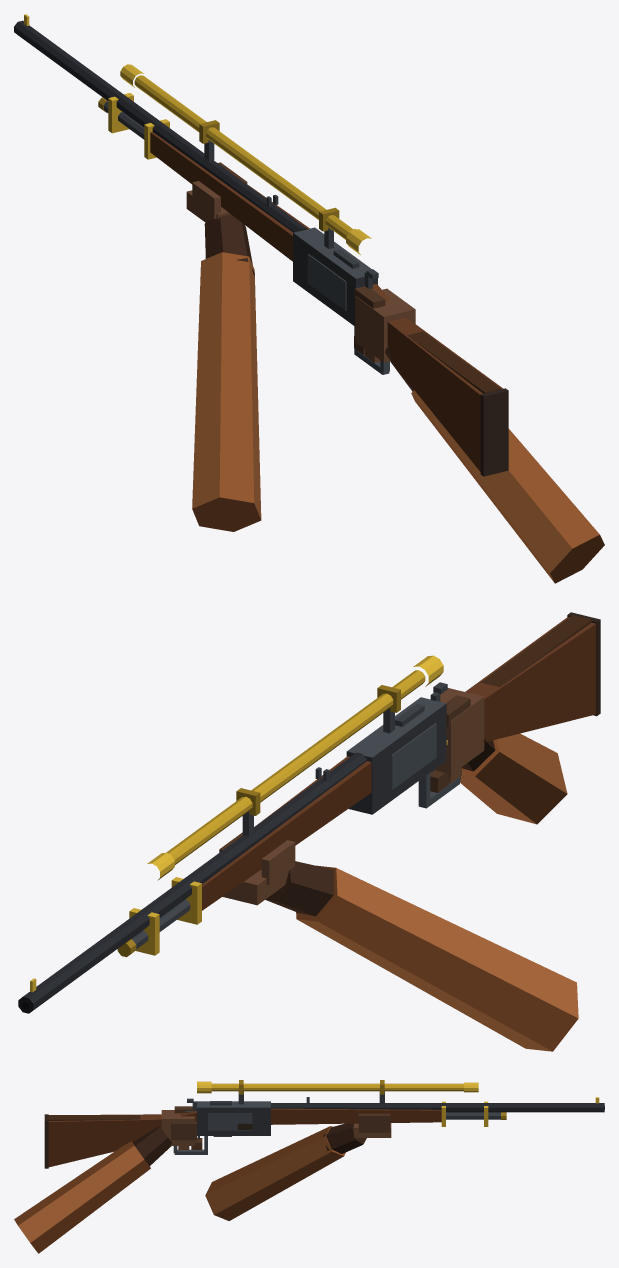
3 views of the same model, one above another, from view 1: azimuth 30°, elevation 25°; view 2: azimuth 150°, elevation 25°; view 3: azimuth 270°, elevation 25° (orthographic). The views are drawn at different scales.
Visible parts, largest first — view 1: long-rifle, handRight; view 2: long-rifle, handRight, lever; view 3: long-rifle, handRight, lever.
Boxes of the visible parts, x1=… form: long-rifle: x1=14, y1=14, x2=508, y2=531; handRight: x1=354, y1=286, x2=604, y2=583; long-rifle: x1=18, y1=612, x2=600, y2=1051; handRight: x1=430, y1=688, x2=567, y2=824; lever: x1=418, y1=773, x2=460, y2=808; long-rifle: x1=44, y1=1080, x2=604, y2=1220; handRight: x1=14, y1=1106, x2=202, y2=1253; lever: x1=173, y1=1136, x2=231, y2=1154.
Bounding box in the file's own units: 0.4495 × 0.5045 × 1.59.
